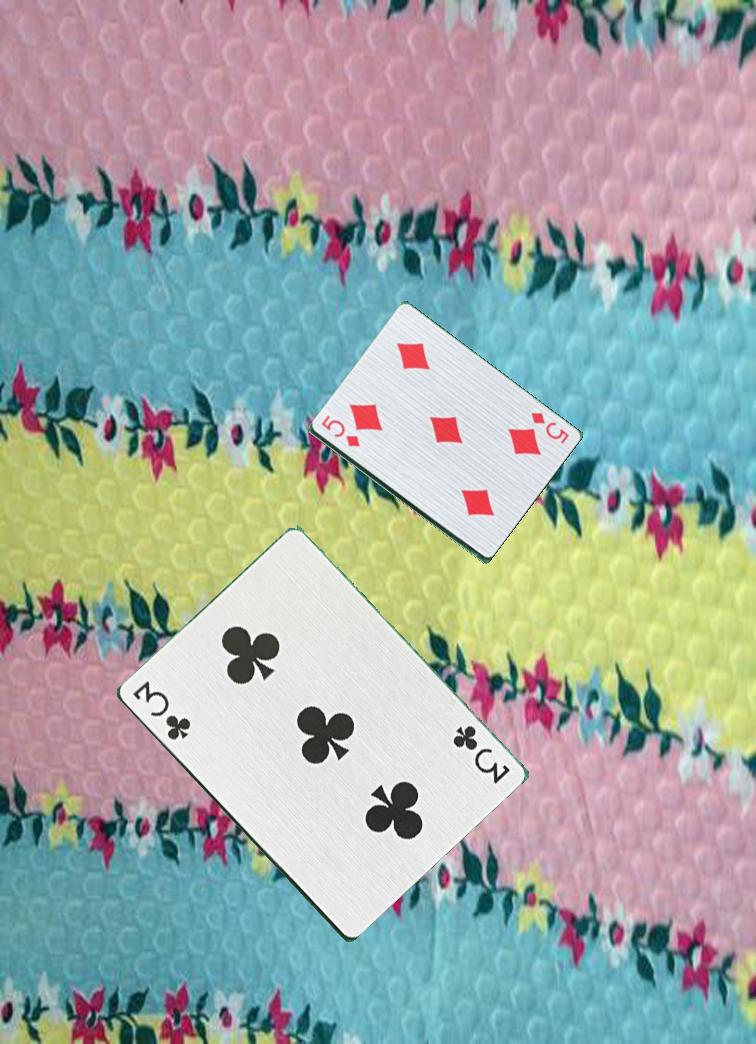3c: (440, 718, 512, 787), (128, 677, 201, 744)
5d: (527, 409, 572, 447), (317, 413, 363, 450)
